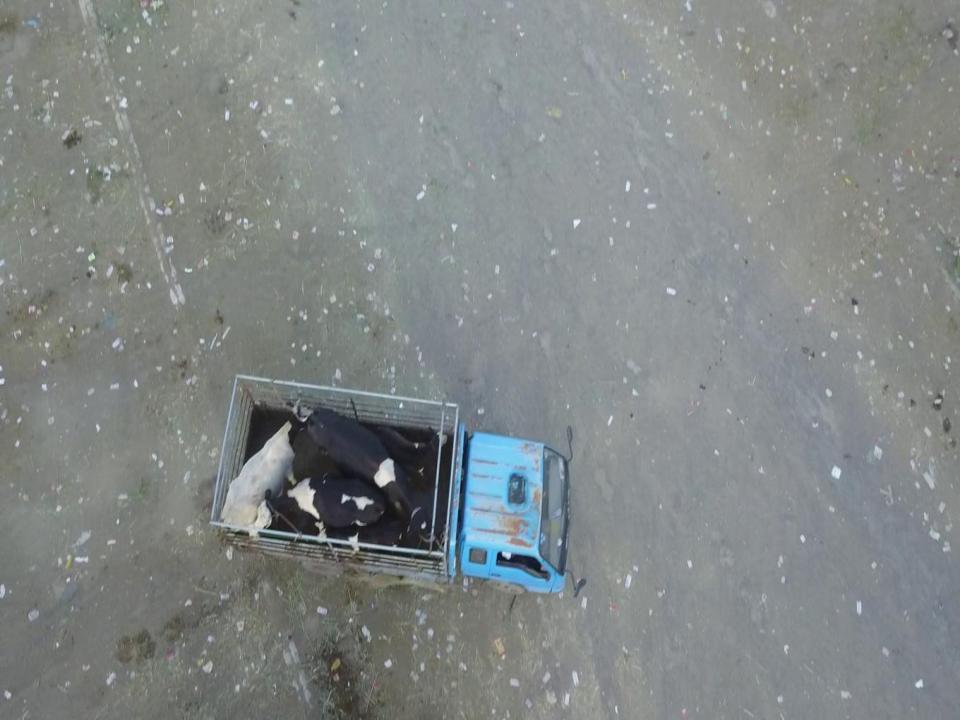truck: (206, 367, 592, 603)
